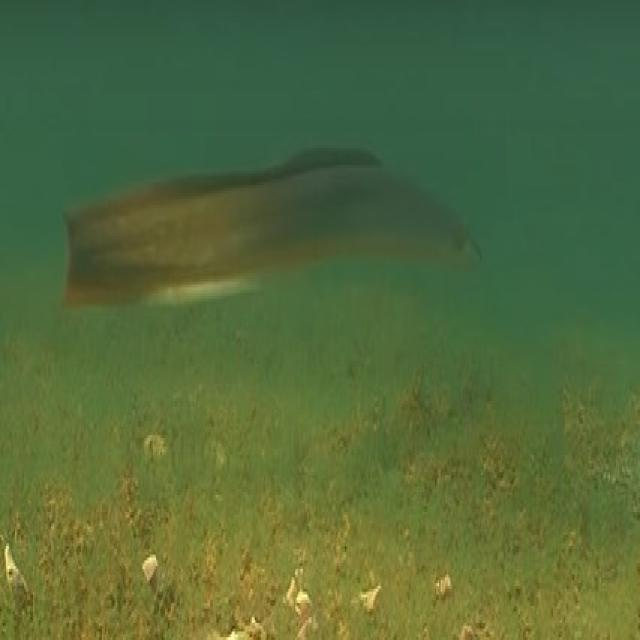Freshwater-Eel: (31, 122, 494, 325)
